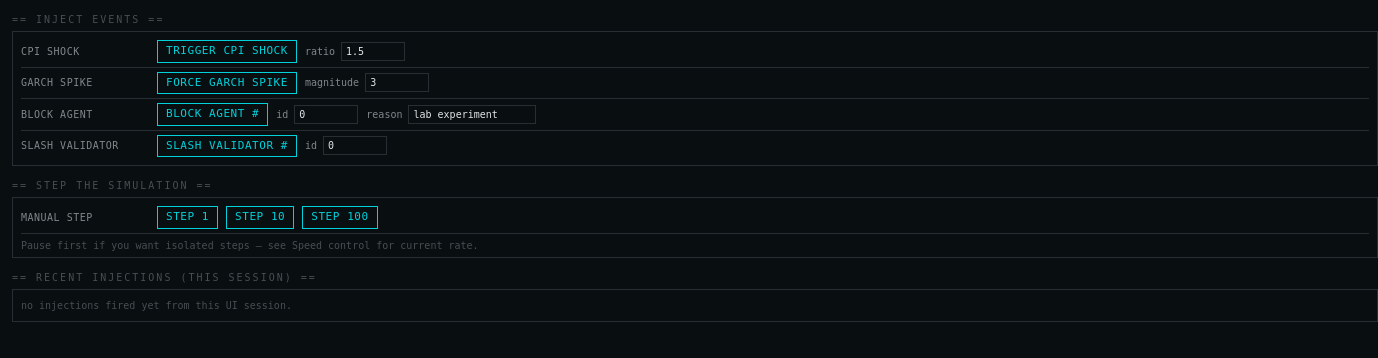
Scenario: LabPanel › error path surfaces the message
This screenshot has width=1378, height=358.
Click the button "trigger cpi shock" at (227, 51), box [157, 40, 297, 62]
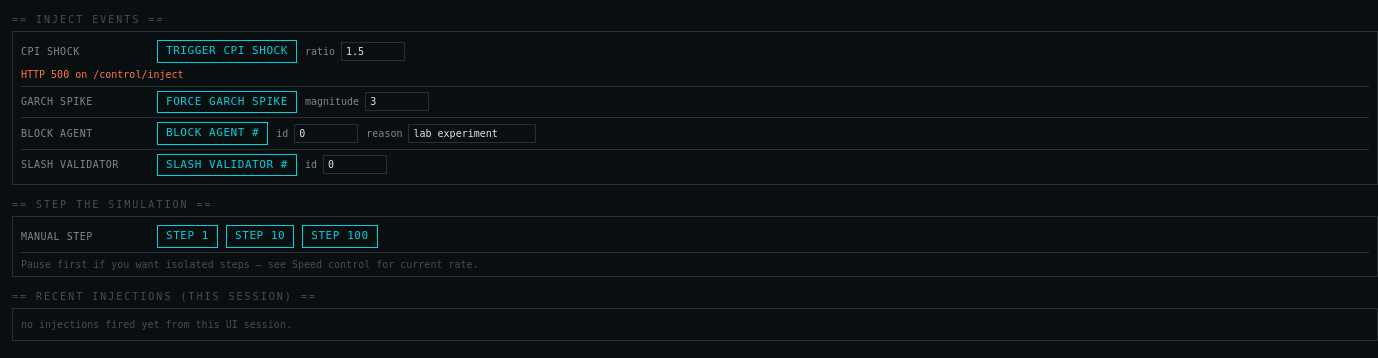
Now the text "HTTP 500 on /control/inject" is shown, box [21, 68, 184, 80]
